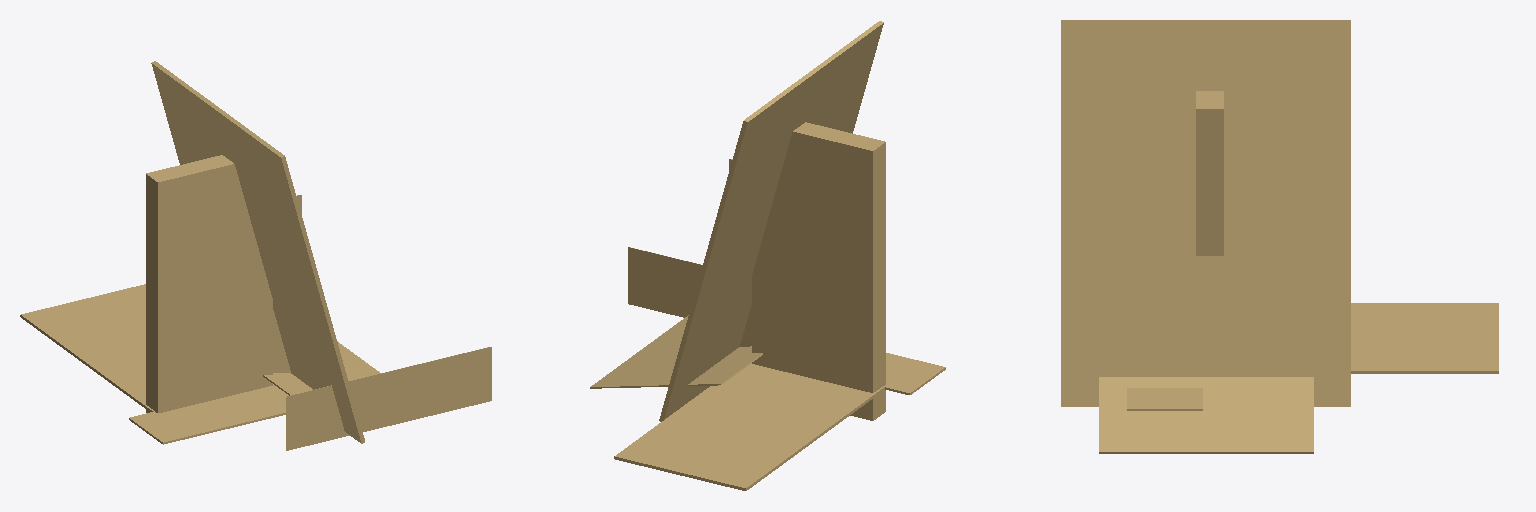
The robot description file, URDF, robot "evolved_design":
<?xml version="1.0" ?>
<robot name="evolved_design">
  <link name="base_link">
    <inertial>
      <mass value="0.001"/>
      <origin xyz="0 0 0" rpy="0 0 0"/>
      <inertia ixx="0.000001" ixy="0" ixz="0" iyy="0.000001" iyz="0" izz="0.000001"/>
    </inertial>
  </link>
  <link name="link_comp_0">
    <inertial>
      <mass value="0.148226"/>
      <origin xyz="0 0 0" rpy="0 0 0"/>
      <inertia ixx="0.000202359" ixy="0" ixz="0" iyy="0.000424693" iyz="0" izz="0.000226318"/>
    </inertial>
    <visual>
      <origin xyz="0 0 0" rpy="0 0 0"/>
      <geometry>
        <box size="0.134762 0.012700 0.127362"/>
      </geometry>
      <material name="link_comp_0_material">
        <color rgba="0.8 0.7 0.5 1"/>
      </material>
    </visual>
    <collision>
      <origin xyz="0 0 0" rpy="0 0 0"/>
      <geometry>
        <box size="0.134762 0.012700 0.127362"/>
      </geometry>
    </collision>
  </link>
  <joint name="base_link_to_link_comp_0" type="fixed">
    <parent link="base_link"/>
    <child link="link_comp_0"/>
    <origin xyz="0.067381 0.006350 0.063681" rpy="0.000000 0.000000 0.000000"/>
  </joint>
  <link name="link_comp_1">
    <inertial>
      <mass value="0.228196"/>
      <origin xyz="0 0 0" rpy="0 0 0"/>
      <inertia ixx="0.000365622" ixy="0" ixz="0" iyy="0.004943317" iyz="0" izz="0.005308082"/>
    </inertial>
    <visual>
      <origin xyz="0 0 0" rpy="0 0 0"/>
      <geometry>
        <box size="0.509832 0.138579 0.004750"/>
      </geometry>
      <material name="link_comp_1_material">
        <color rgba="0.8 0.7 0.5 1"/>
      </material>
    </visual>
    <collision>
      <origin xyz="0 0 0" rpy="0 0 0"/>
      <geometry>
        <box size="0.509832 0.138579 0.004750"/>
      </geometry>
    </collision>
  </link>
  <joint name="base_link_to_link_comp_1" type="fixed">
    <parent link="base_link"/>
    <child link="link_comp_1"/>
    <origin xyz="0.088088 -0.069790 0.056170" rpy="0.000000 0.000000 0.000000"/>
  </joint>
  <link name="link_comp_2">
    <inertial>
      <mass value="0.681705"/>
      <origin xyz="0 0 0" rpy="0 0 0"/>
      <inertia ixx="0.016380963" ixy="0" ixz="0" iyy="0.004913390" iyz="0" izz="0.021289772"/>
    </inertial>
    <visual>
      <origin xyz="0 0 0" rpy="0 0 0"/>
      <geometry>
        <box size="0.294023 0.536947 0.006350"/>
      </geometry>
      <material name="link_comp_2_material">
        <color rgba="0.8 0.7 0.5 1"/>
      </material>
    </visual>
    <collision>
      <origin xyz="0 0 0" rpy="0 0 0"/>
      <geometry>
        <box size="0.294023 0.536947 0.006350"/>
      </geometry>
    </collision>
  </link>
  <joint name="base_link_to_link_comp_2" type="fixed">
    <parent link="base_link"/>
    <child link="link_comp_2"/>
    <origin xyz="0.036494 0.268474 0.056245" rpy="0.000000 0.000000 0.000000"/>
  </joint>
  <link name="link_comp_3">
    <inertial>
      <mass value="0.253974"/>
      <origin xyz="0 0 0" rpy="0 0 0"/>
      <inertia ixx="0.003220805" ixy="0" ixz="0" iyy="0.001924868" iyz="0" izz="0.005145247"/>
    </inertial>
    <visual>
      <origin xyz="0 0 0" rpy="0 0 0"/>
      <geometry>
        <box size="0.301559 0.390089 0.003175"/>
      </geometry>
      <material name="link_comp_3_material">
        <color rgba="0.8 0.7 0.5 1"/>
      </material>
    </visual>
    <collision>
      <origin xyz="0 0 0" rpy="0 0 0"/>
      <geometry>
        <box size="0.301559 0.390089 0.003175"/>
      </geometry>
    </collision>
  </link>
  <joint name="base_link_to_link_comp_3" type="fixed">
    <parent link="base_link"/>
    <child link="link_comp_3"/>
    <origin xyz="0.286042 0.005262 0.049143" rpy="0.000000 0.252251 0.000000"/>
  </joint>
  <link name="link_comp_4">
    <inertial>
      <mass value="2.429465"/>
      <origin xyz="0 0 0" rpy="0 0 0"/>
      <inertia ixx="0.158677460" ixy="0" ixz="0" iyy="0.102332382" iyz="0" izz="0.056381814"/>
    </inertial>
    <visual>
      <origin xyz="0 0 0" rpy="0 0 0"/>
      <geometry>
        <box size="0.009525 0.527636 0.710891"/>
      </geometry>
      <material name="link_comp_4_material">
        <color rgba="0.8 0.7 0.5 1"/>
      </material>
    </visual>
    <collision>
      <origin xyz="0 0 0" rpy="0 0 0"/>
      <geometry>
        <box size="0.009525 0.527636 0.710891"/>
      </geometry>
    </collision>
  </link>
  <joint name="base_link_to_link_comp_4" type="fixed">
    <parent link="base_link"/>
    <child link="link_comp_4"/>
    <origin xyz="0.140025 0.004392 0.355445" rpy="0.000000 -0.268840 0.000000"/>
  </joint>
  <link name="link_comp_5">
    <inertial>
      <mass value="0.040015"/>
      <origin xyz="0 0 0" rpy="0 0 0"/>
      <inertia ixx="0.000049658" ixy="0" ixz="0" iyy="0.000825083" iyz="0" izz="0.000775431"/>
    </inertial>
    <visual>
      <origin xyz="0 0 0" rpy="0 0 0"/>
      <geometry>
        <box size="0.482226 0.001000 0.122029"/>
      </geometry>
      <material name="link_comp_5_material">
        <color rgba="0.8 0.7 0.5 1"/>
      </material>
    </visual>
    <collision>
      <origin xyz="0 0 0" rpy="0 0 0"/>
      <geometry>
        <box size="0.482226 0.001000 0.122029"/>
      </geometry>
    </collision>
  </link>
  <joint name="base_link_to_link_comp_5" type="fixed">
    <parent link="base_link"/>
    <child link="link_comp_5"/>
    <origin xyz="0.332709 -0.190663 0.061014" rpy="0.000000 0.000000 0.000000"/>
  </joint>
  <link name="link_comp_6">
    <inertial>
      <mass value="5.310937"/>
      <origin xyz="0 0 0" rpy="0 0 0"/>
      <inertia ixx="0.148127415" ixy="0" ixz="0" iyy="0.179528583" iyz="0" izz="0.033614058"/>
    </inertial>
    <visual>
      <origin xyz="0 0 0" rpy="0 0 0"/>
      <geometry>
        <box size="0.271018 0.050000 0.576361"/>
      </geometry>
      <material name="link_comp_6_material">
        <color rgba="0.8 0.7 0.5 1"/>
      </material>
    </visual>
    <collision>
      <origin xyz="0 0 0" rpy="0 0 0"/>
      <geometry>
        <box size="0.271018 0.050000 0.576361"/>
      </geometry>
    </collision>
  </link>
  <joint name="base_link_to_link_comp_6" type="fixed">
    <parent link="base_link"/>
    <child link="link_comp_6"/>
    <origin xyz="0.029735 0.011802 0.288181" rpy="0.000000 0.000000 0.000000"/>
  </joint>
  <link name="link_comp_7">
    <inertial>
      <mass value="0.138134"/>
      <origin xyz="0 0 0" rpy="0 0 0"/>
      <inertia ixx="0.002485547" ixy="0" ixz="0" iyy="0.003432714" iyz="0" izz="0.000947220"/>
    </inertial>
    <visual>
      <origin xyz="0 0 0" rpy="0 0 0"/>
      <geometry>
        <box size="0.286853 0.001524 0.464674"/>
      </geometry>
      <material name="link_comp_7_material">
        <color rgba="0.8 0.7 0.5 1"/>
      </material>
    </visual>
    <collision>
      <origin xyz="0 0 0" rpy="0 0 0"/>
      <geometry>
        <box size="0.286853 0.001524 0.464674"/>
      </geometry>
    </collision>
  </link>
  <joint name="base_link_to_link_comp_7" type="fixed">
    <parent link="base_link"/>
    <child link="link_comp_7"/>
    <origin xyz="0.094326 -0.001262 0.232337" rpy="0.000000 0.000000 0.000000"/>
  </joint>
</robot>

--- Render facts (derived) ---
3 views of the same robot in one strip: view 1: azimuth 30°, elevation 25°; view 2: azimuth 150°, elevation 25°; view 3: azimuth 270°, elevation 25° (orthographic).
Robot: evolved_design — 9 links, 8 joints (8 fixed); root link base_link; default pose: all joints at 0.
Visible links, largest first — view 1: link_comp_6, link_comp_4, link_comp_5, link_comp_2, link_comp_1, link_comp_3, link_comp_7; view 2: link_comp_6, link_comp_4, link_comp_2, link_comp_3, link_comp_5, link_comp_1; view 3: link_comp_4, link_comp_3, link_comp_2, link_comp_6, link_comp_1.
Link boxes in pixels (bbox=[...]): link_comp_6: bbox=[146, 155, 272, 412]; link_comp_4: bbox=[151, 61, 364, 443]; link_comp_5: bbox=[286, 347, 491, 450]; link_comp_2: bbox=[20, 284, 153, 411]; link_comp_1: bbox=[129, 365, 363, 444]; link_comp_3: bbox=[263, 341, 380, 395]; link_comp_7: bbox=[273, 195, 301, 372]; link_comp_6: bbox=[752, 122, 885, 420]; link_comp_4: bbox=[659, 21, 883, 421]; link_comp_2: bbox=[614, 363, 884, 490]; link_comp_3: bbox=[590, 315, 762, 388]; link_comp_5: bbox=[628, 247, 702, 317]; link_comp_1: bbox=[883, 353, 945, 394]; link_comp_4: bbox=[1061, 20, 1350, 406]; link_comp_3: bbox=[1099, 377, 1313, 453]; link_comp_2: bbox=[1351, 303, 1498, 373]; link_comp_6: bbox=[1196, 91, 1223, 255]; link_comp_1: bbox=[1127, 388, 1202, 410].
Size in the robot's own frame: 0.7407 by 0.7964 by 0.6994 metres.
Geometry: primitives only (box / cylinder / sphere), no mesh files.